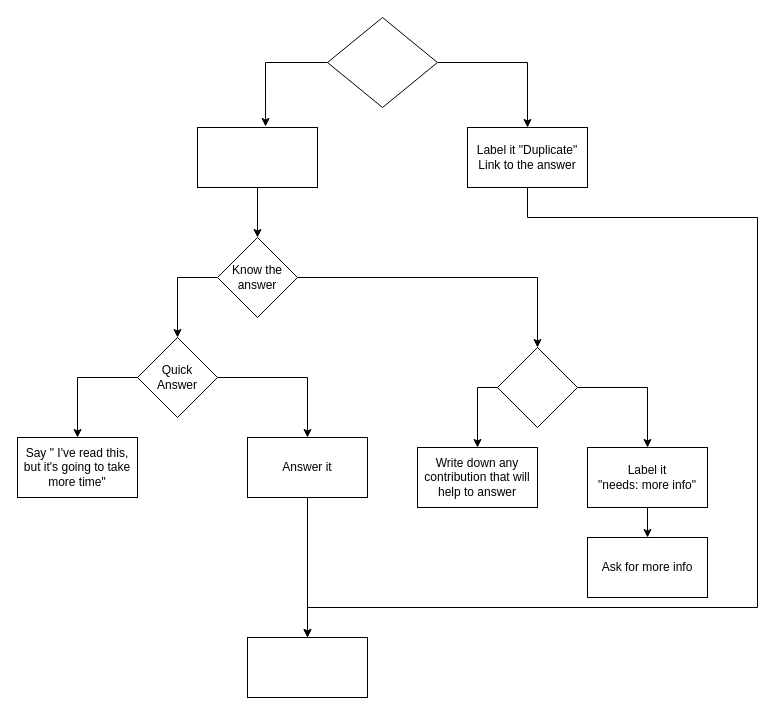
Image size: 783x715. Some labels were removed from this diagram. Each missing label, with the box of its shape:
Close the issue: (246, 636, 368, 698)
Found similar question: (326, 16, 438, 108)
Label it "Question": (196, 126, 318, 188)
Need more Info: (496, 346, 578, 428)
